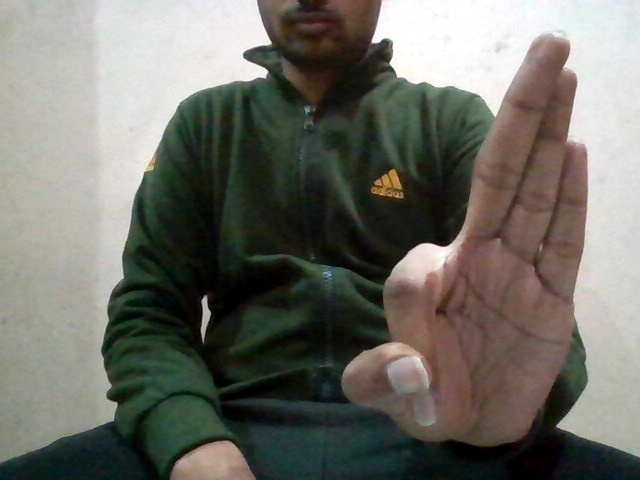F: (376, 26, 590, 448)
